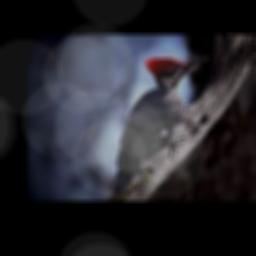Woodpecker: (114, 56, 208, 193)
